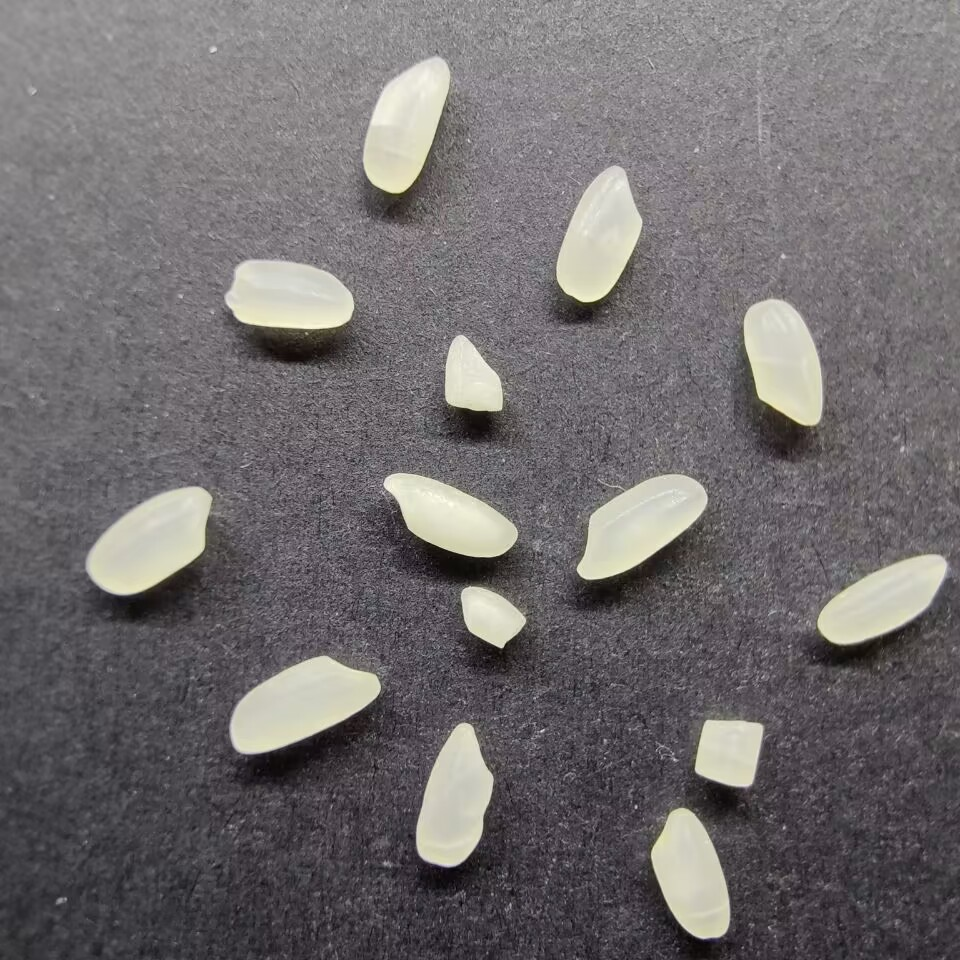broken: (692, 716, 765, 790), (440, 332, 504, 415), (457, 585, 529, 650)
rice: (226, 653, 383, 757), (82, 484, 214, 598), (576, 472, 708, 582), (553, 162, 645, 305), (360, 53, 451, 197), (814, 550, 948, 647), (381, 469, 520, 560), (412, 719, 496, 868), (647, 805, 732, 941), (741, 297, 825, 428), (221, 258, 355, 330)
